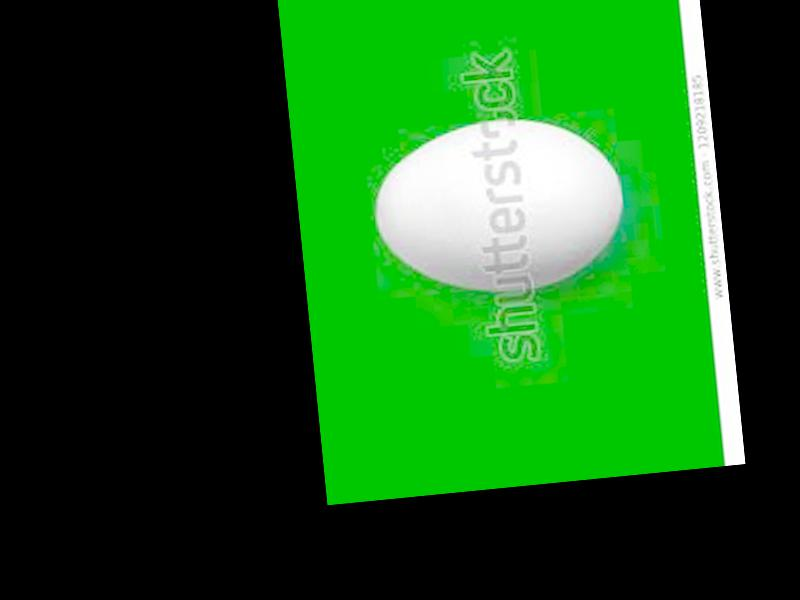Eggs: (368, 110, 628, 304)
